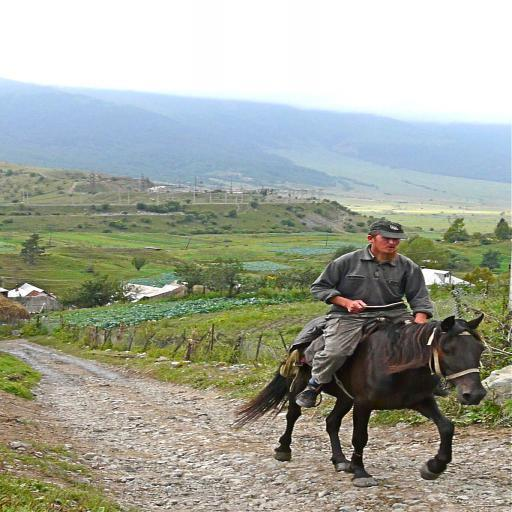horse: (234, 314, 486, 486)
